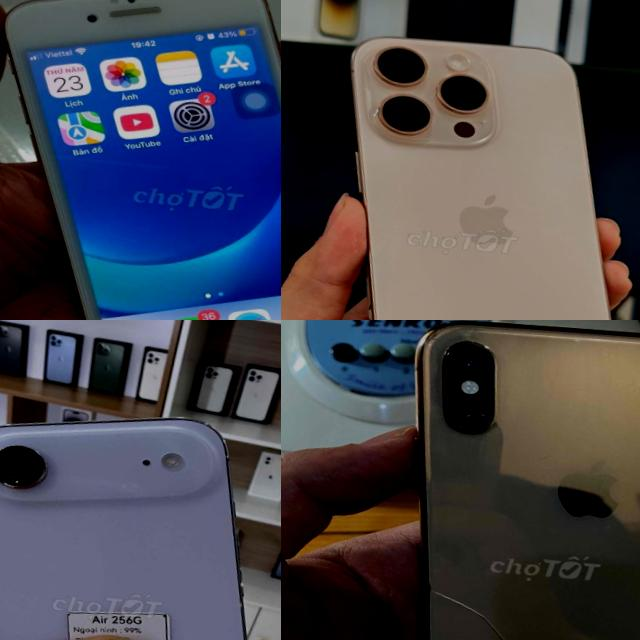gen_16: (349, 37, 611, 320)
gen_17: (0, 388, 281, 640)
gen_7_8: (0, 0, 281, 320)
gen_x_xs: (365, 320, 640, 640)
physical_damage: (408, 572, 640, 640)
scratch: (554, 330, 638, 370), (625, 494, 640, 563)
